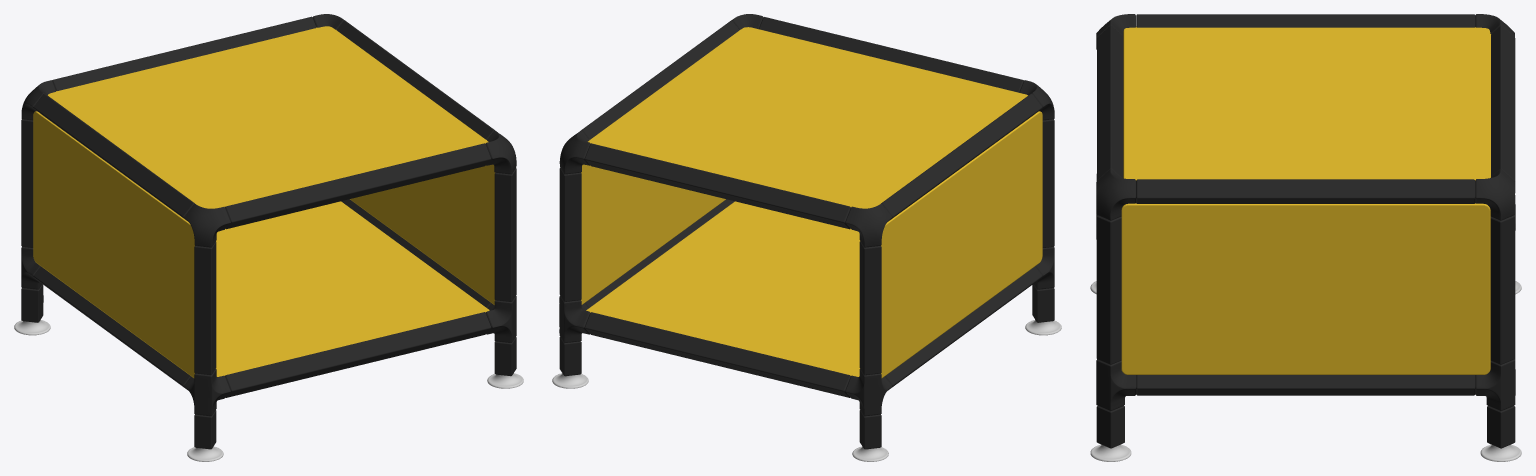
3 renders of one model, left to right at view 1: azimuth 30°, elevation 25°; view 2: azimuth 150°, elevation 25°; view 3: azimuth 270°, elevation 25°, orthographic. The views are drawn at different scales.
Parts seen in each view (by area): view 1: 329x329x154; view 2: 329x329x154; view 3: 329x329x154.
Part boxes in pixels (bbox=[...]): 329x329x154: bbox=[14, 14, 523, 461]; 329x329x154: bbox=[552, 14, 1061, 461]; 329x329x154: bbox=[1090, 14, 1521, 461].
Bounding box in the file's own units: 0.4189 × 0.2933 × 0.4183.
